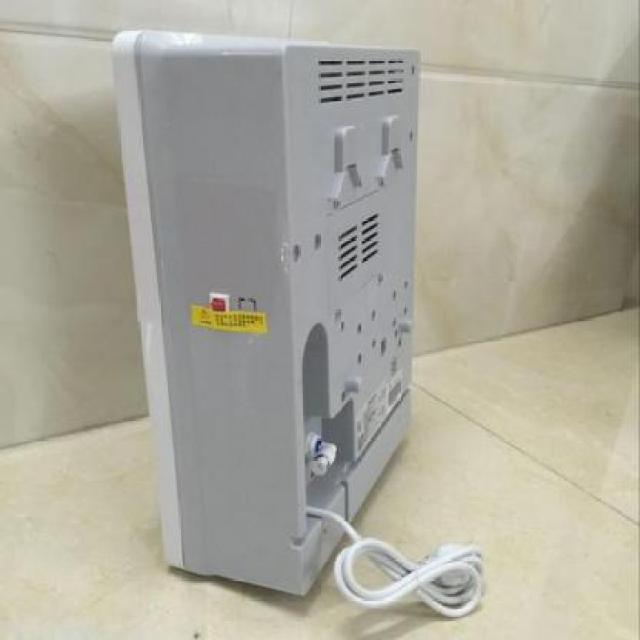cooler: (106, 23, 429, 603)
